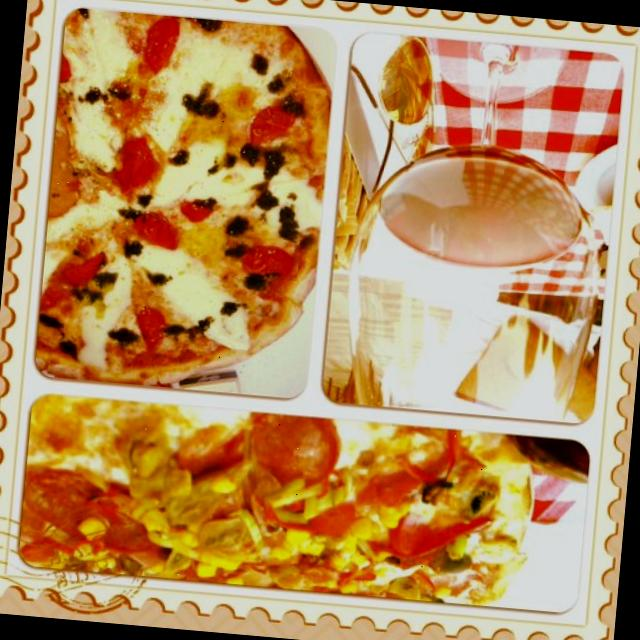pepperoni: (15, 462, 136, 556), (234, 412, 335, 509), (387, 489, 495, 576), (72, 494, 167, 560), (388, 426, 459, 502)
pizza: (35, 9, 330, 384), (18, 396, 534, 605)
tomato: (30, 235, 116, 320), (90, 120, 162, 207), (118, 0, 192, 80), (120, 202, 188, 254), (230, 235, 299, 281), (252, 89, 296, 153), (123, 299, 174, 354)
